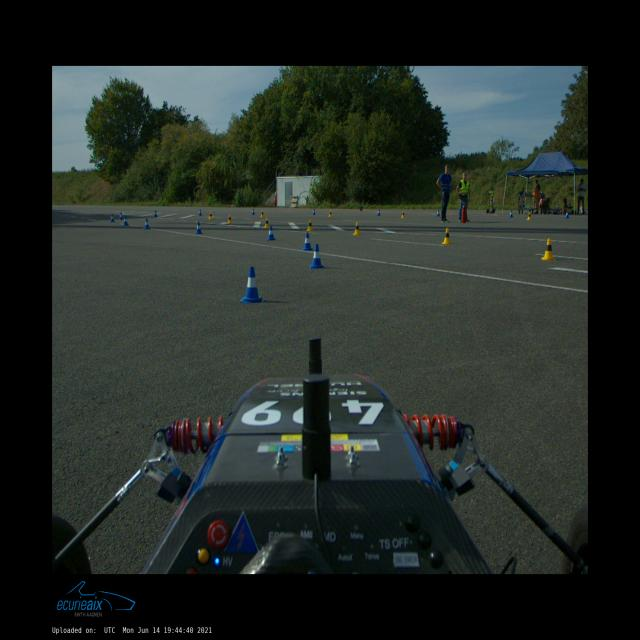blue_cone: (240, 267, 264, 303), (310, 244, 324, 269), (302, 233, 314, 250), (267, 226, 276, 240), (195, 222, 203, 234), (144, 218, 150, 230), (123, 216, 129, 225), (110, 214, 115, 222), (509, 210, 514, 217), (154, 210, 158, 218), (120, 212, 124, 220), (565, 212, 570, 218), (198, 209, 202, 216), (312, 209, 316, 215), (377, 210, 381, 216), (252, 209, 255, 215), (437, 210, 440, 216)
yellow_cone: (541, 238, 556, 260), (441, 228, 452, 244), (353, 221, 362, 235), (307, 219, 314, 231), (264, 217, 270, 228), (227, 214, 233, 224), (527, 212, 532, 220), (328, 210, 333, 217), (208, 212, 213, 219), (260, 210, 264, 217), (401, 211, 405, 218)
